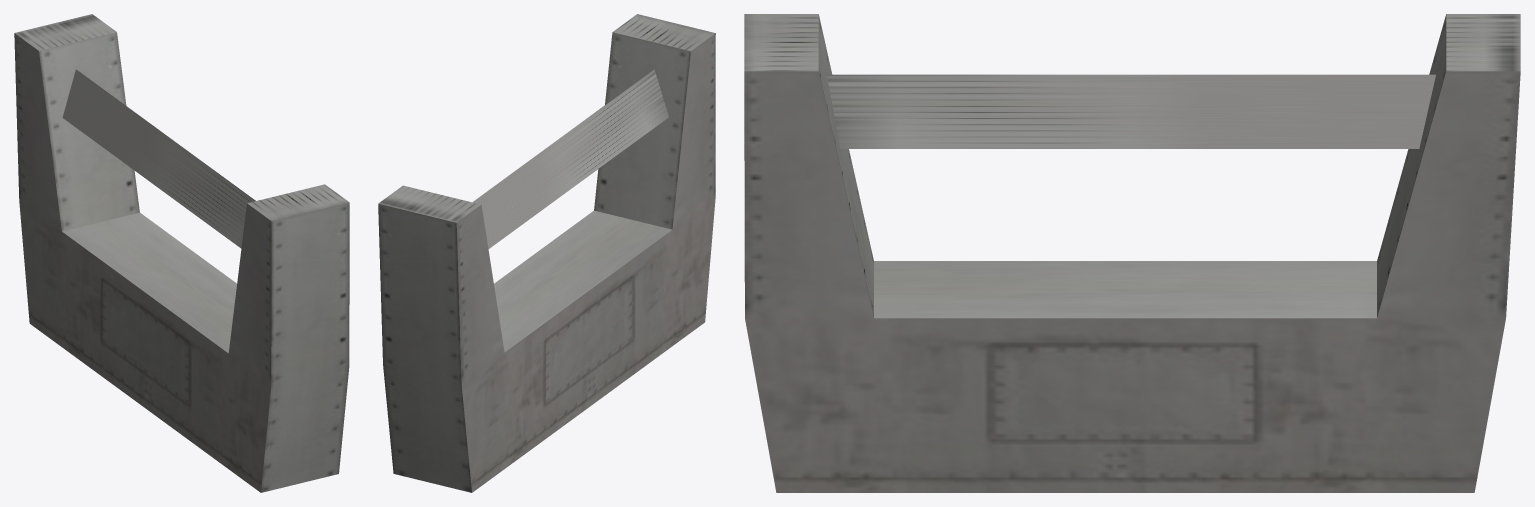
Rendered from arm.obj.
3 renders of one model, left to right at view 1: azimuth 30°, elevation 25°; view 2: azimuth 150°, elevation 25°; view 3: azimuth 270°, elevation 25°, orthographic. The views are drawn at different scales.
Bounding box in the file's own units: 0.6334 × 2.17 × 3.62.
